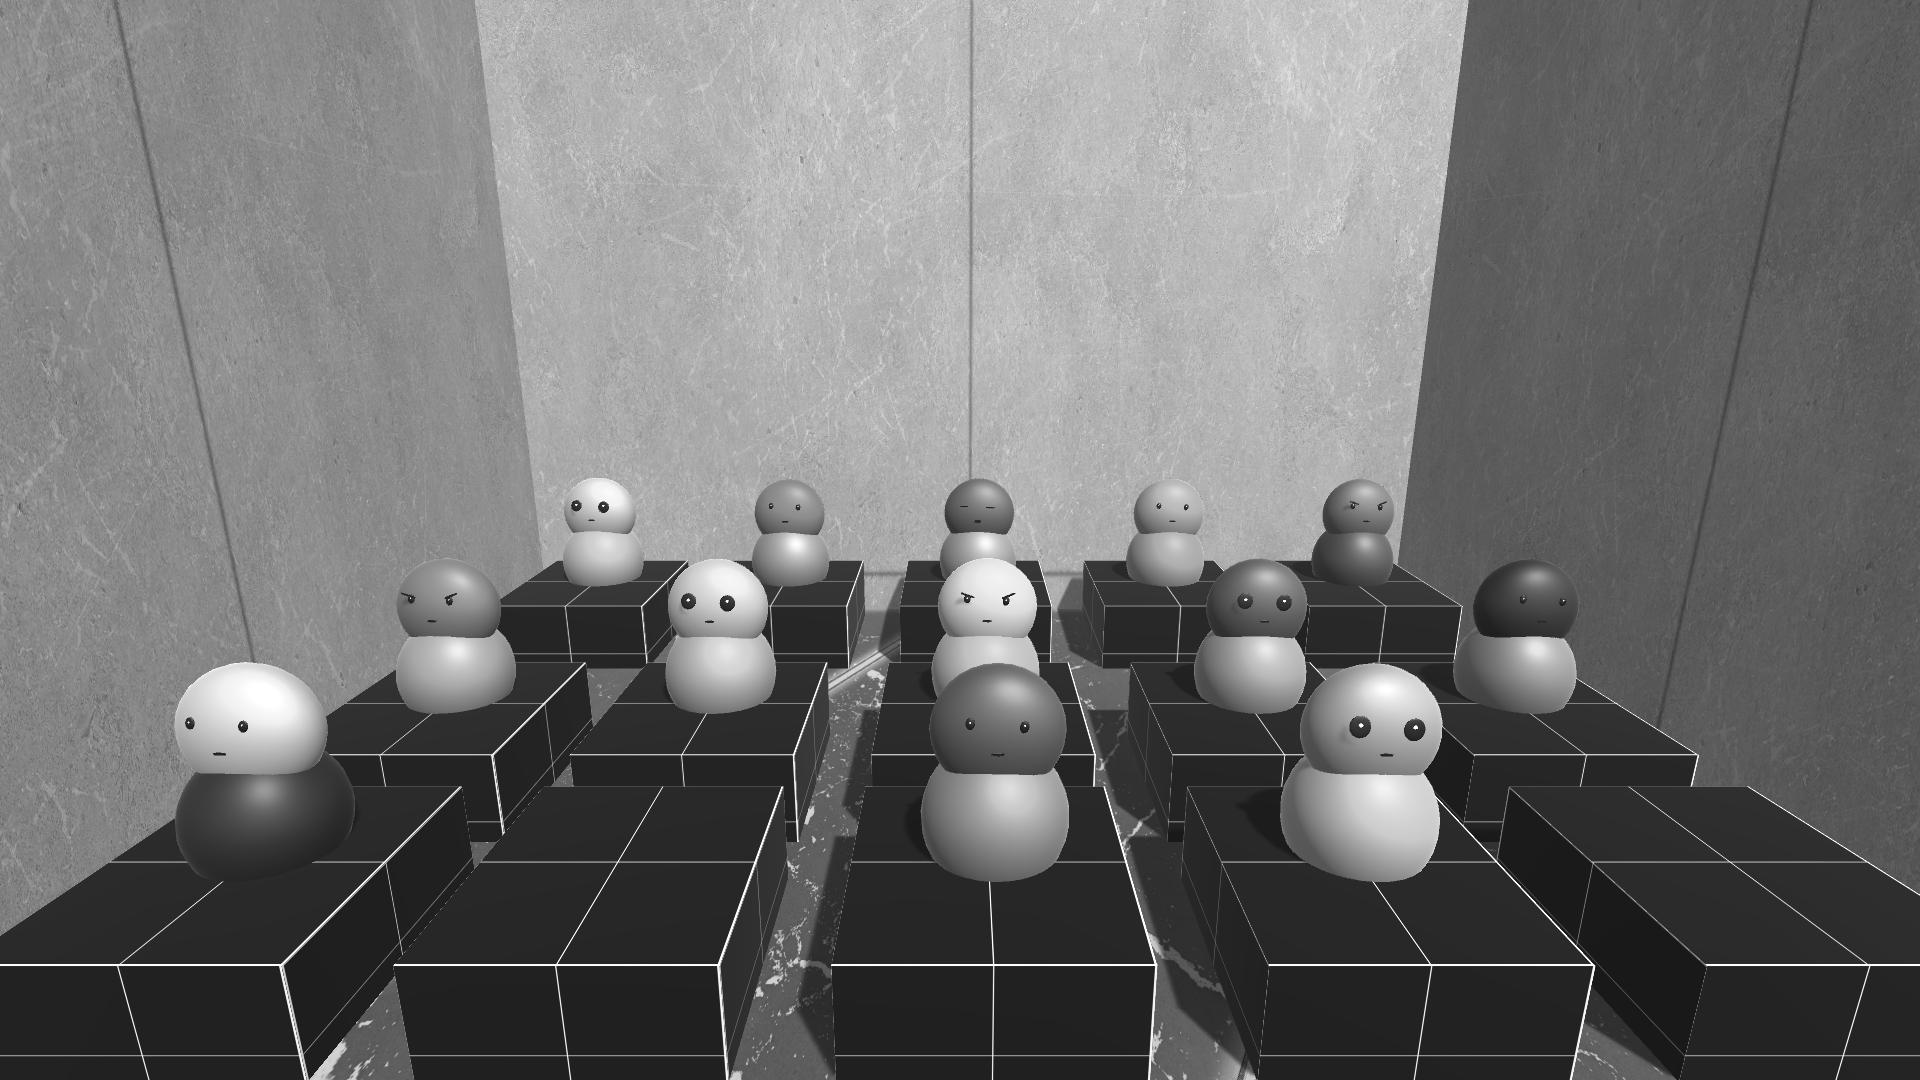blob_atento: (1296, 665, 1447, 790), (663, 556, 769, 646), (1201, 556, 1307, 644), (559, 471, 636, 535)
blob_dormindo: (943, 476, 1014, 534)
blob_normal: (169, 655, 324, 779), (927, 659, 1067, 786), (1466, 559, 1584, 646), (749, 479, 831, 539), (1130, 479, 1204, 537)
blob_raiva: (931, 554, 1047, 641), (389, 560, 506, 646), (1316, 477, 1396, 541)
